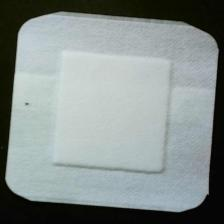Dressing: (6, 11, 221, 216)
F_Body: (20, 95, 43, 118)
